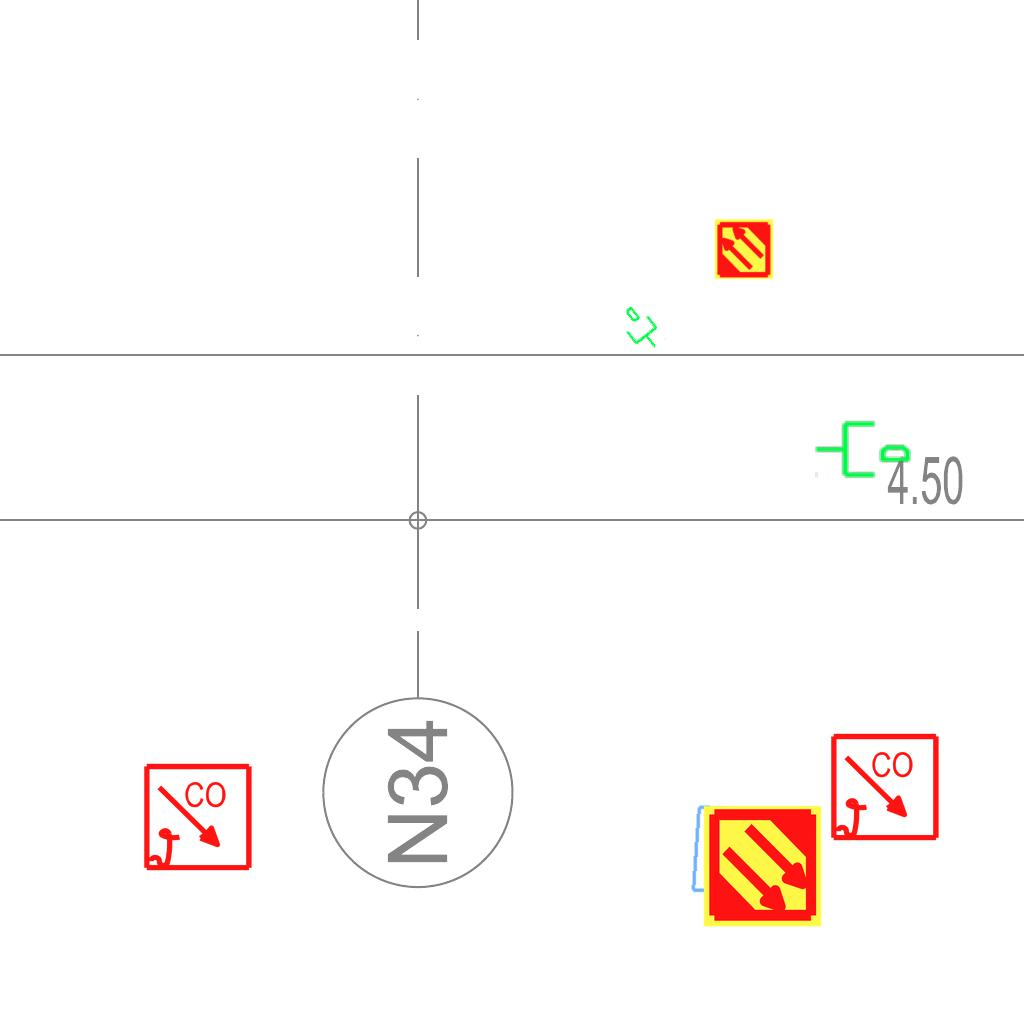ASR_Ansaugrauchmelder: (700, 804, 825, 929), (713, 218, 775, 280)
Datenanschluss_einfach: (813, 413, 913, 482), (611, 298, 669, 360)
KFO_Kamera_mit_Festobjektiv: (687, 802, 772, 899)
ROA_Rauchmelder_optisch_mit_Signalgeber_(Sockelsirene): (142, 762, 255, 875), (829, 732, 942, 845)
